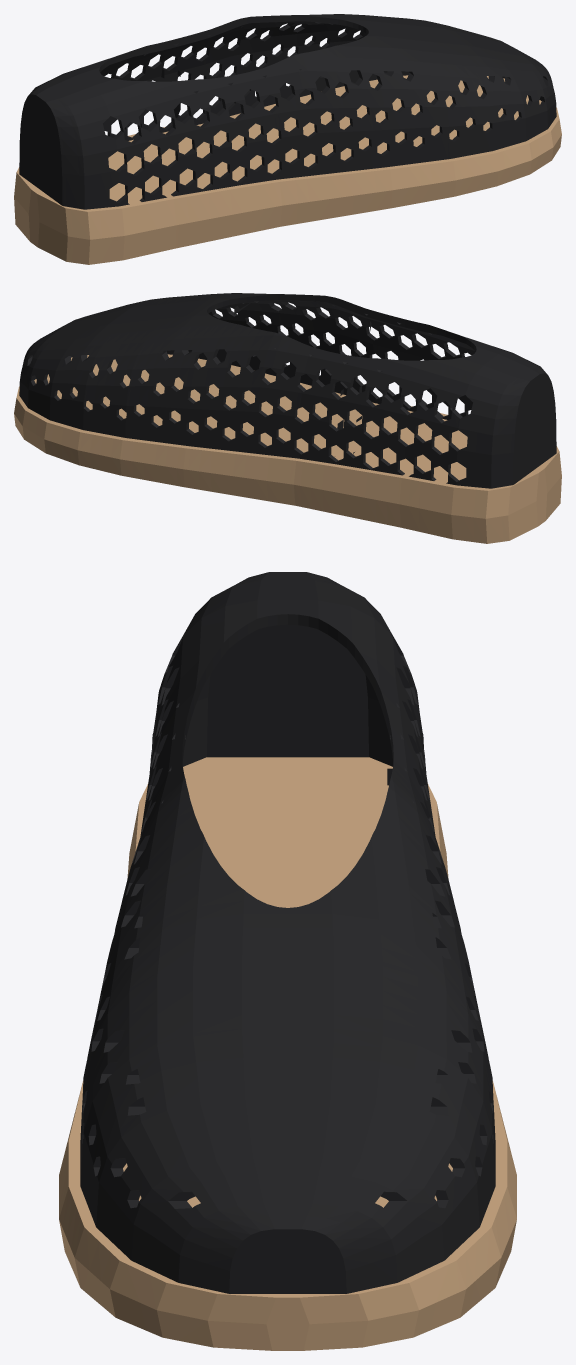
File: hive-root.glb
The picture shows the model from 3 angles, top to bottom: view 1: azimuth 30°, elevation 25°; view 2: azimuth 150°, elevation 25°; view 3: azimuth 270°, elevation 25°; orthographic projection. The views are drawn at different scales.
Parts seen in each view (by area): view 1: hive-root_upper, hive-root_sole; view 2: hive-root_upper, hive-root_sole; view 3: hive-root_upper, hive-root_sole.
Boxes of the visible parts, x1,y1,x2,y2 form: hive-root_upper: (19, 14, 556, 209); hive-root_sole: (14, 75, 561, 264); hive-root_upper: (19, 293, 556, 488); hive-root_sole: (14, 354, 561, 543); hive-root_upper: (80, 572, 495, 1293); hive-root_sole: (59, 757, 516, 1350).
Size of the model in its own units: 0.3 by 0.0867 by 0.117.
